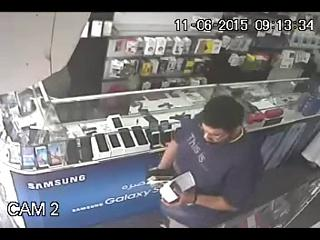shoplifting: (149, 93, 266, 226)
